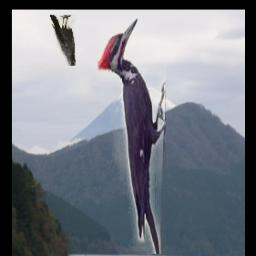Crow: (50, 15, 77, 66)
Woodpecker: (98, 18, 167, 255)
